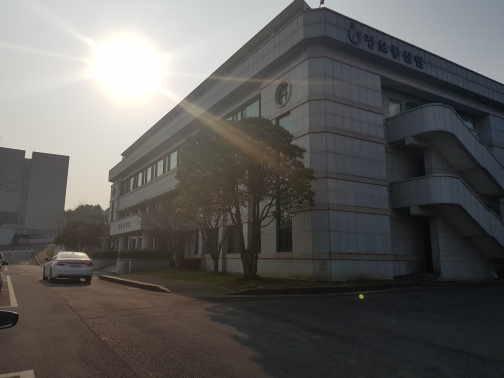Engineering College Building 4: (1, 146, 69, 247), (22, 150, 66, 243)
Information Telecommunication Center: (112, 24, 500, 282), (339, 16, 441, 73)
